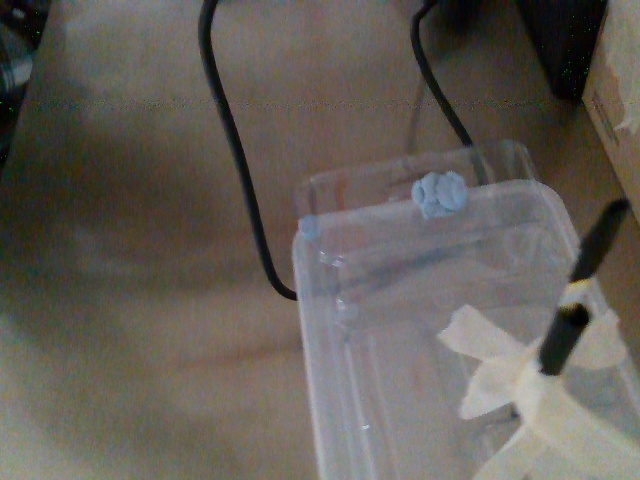test_strip: (556, 197, 628, 307)
